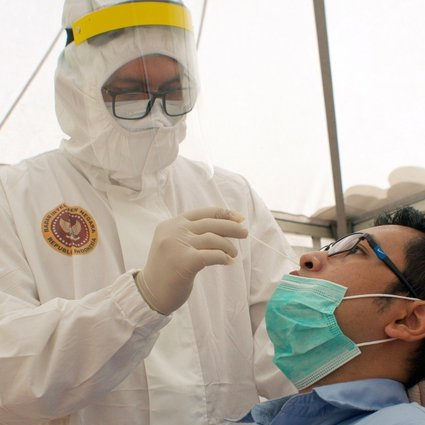Coverall: (1, 152, 301, 425)
Face_Shield: (56, 2, 203, 173)
Gloves: (134, 206, 250, 319)
mask_weared_incorrect: (260, 226, 376, 396)
with_mask: (100, 54, 191, 186)
